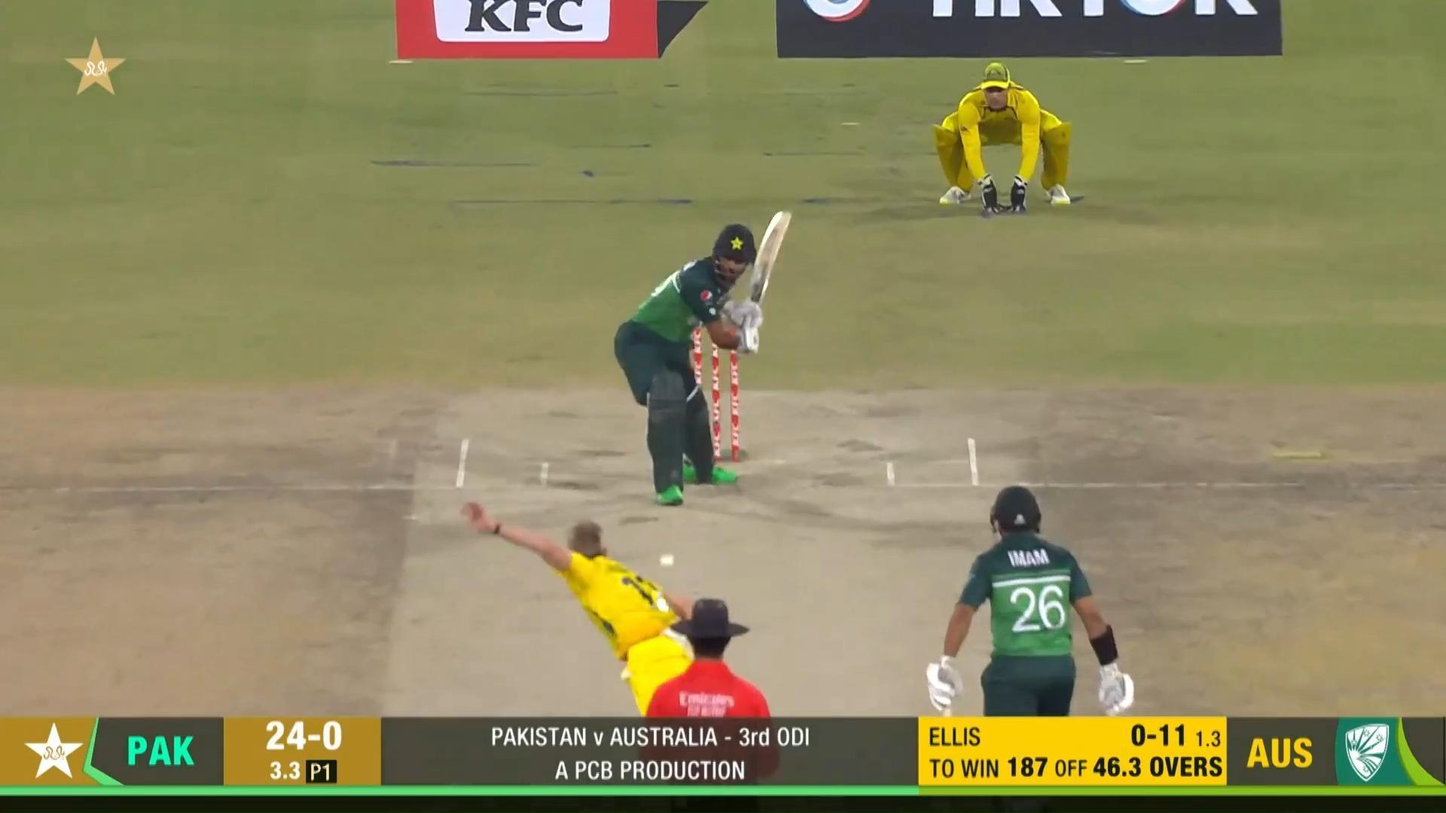BM 1: (612, 209, 793, 506)
BO: (457, 496, 735, 813)
